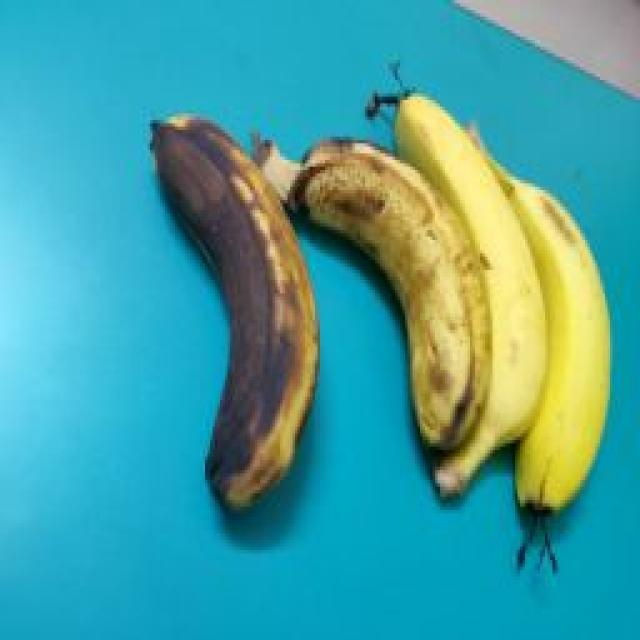Organik: (130, 104, 318, 522), (391, 56, 556, 499), (284, 117, 491, 451), (499, 142, 637, 564)
